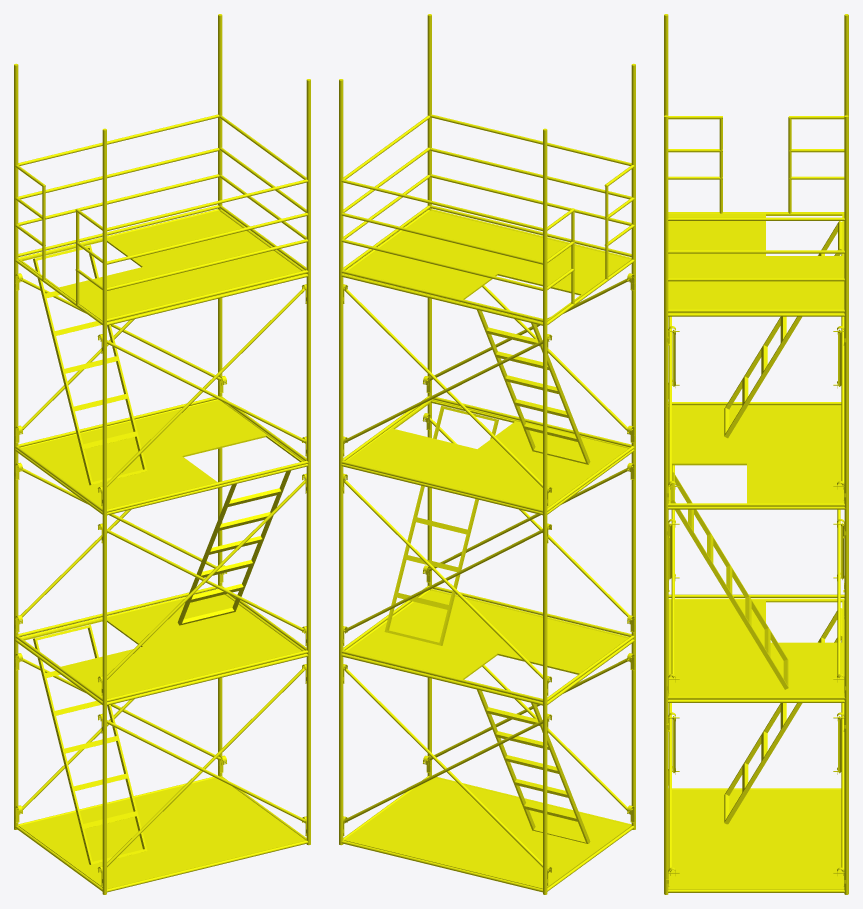
Rendered from Andamio total.FBX.
3 views of the same model, side by side, from view 1: azimuth 30°, elevation 25°; view 2: azimuth 150°, elevation 25°; view 3: azimuth 270°, elevation 25° (orthographic).
Visible parts, largest first — view 1: Box150, Box157, Box154, Box151, Box155, Box152, Box158, marco (×3), ndmio02, group_2 (×2), group_190, group_26 (+32 smaller); view 2: Box150, Box157, Box151, Box154, Box158, Box152, marco (×3), Box155, ndmio02, group_2 (×2), group_190, group_26 (+32 smaller); view 3: Box150, Box154, Box157, Box151, ndmio02, Box155, group_190, group_094, Box158, Box152, marco (×2), group_26 (+14 smaller).
Boxes of the visible parts, x1,y1,x2,y2 form: Box150: [18, 778, 305, 888]; Box157: [19, 210, 305, 322]; Box154: [21, 400, 302, 509]; Box151: [22, 594, 305, 702]; Box155: [177, 470, 290, 625]; Box152: [33, 624, 147, 864]; Box158: [33, 245, 147, 485]; marco (×3): [14, 636, 310, 894]; ndmio02: [15, 115, 306, 289]; group_2 (×2): [115, 681, 293, 856]; group_190: [15, 209, 306, 511]; group_26: [15, 593, 306, 891]; Box150: [344, 777, 631, 888]; Box157: [344, 210, 631, 322]; Box151: [345, 590, 627, 702]; Box154: [347, 400, 628, 509]; Box158: [477, 310, 590, 464]; Box152: [477, 689, 590, 843]; marco (×3): [339, 639, 635, 894]; Box155: [384, 405, 498, 645]; ndmio02: [343, 115, 634, 289]; group_2 (×2): [356, 681, 534, 856]; group_190: [343, 209, 634, 511]; group_26: [343, 590, 634, 891]; Box150: [668, 789, 844, 889]; Box154: [668, 406, 844, 503]; Box157: [668, 213, 844, 313]; Box151: [668, 600, 844, 699]; ndmio02: [668, 116, 844, 281]; Box155: [670, 472, 788, 689]; group_190: [668, 212, 844, 506]; group_094: [667, 405, 845, 699]; Box158: [724, 221, 842, 438]; Box152: [724, 608, 842, 824]; marco (×2): [664, 697, 848, 894]; group_26: [668, 598, 844, 892].
Bounding box in the file's own units: 226 × 785 × 169.
